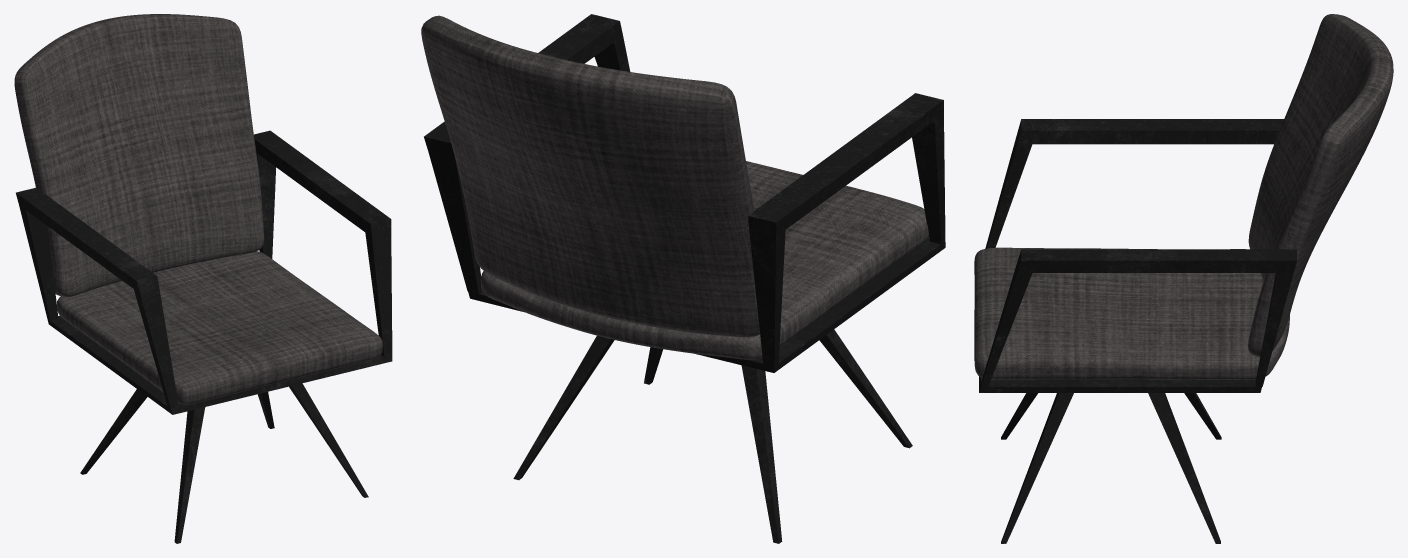
File: chair-low-poly-texture.fbx
3 views of the same model, side by side, from view 1: azimuth 30°, elevation 25°; view 2: azimuth 150°, elevation 25°; view 3: azimuth 270°, elevation 25° (orthographic). The views are drawn at different scales.
Visible parts, largest first — view 1: polySurface1, polySurface3, polySurface5; view 2: polySurface1, polySurface5, polySurface3; view 3: polySurface3, polySurface5, polySurface1.
Part boxes in pixels (left/top/right/bottom): polySurface1: left=14, top=14, right=264, bottom=296; polySurface3: left=57, top=251, right=382, bottom=404; polySurface5: left=16, top=130, right=392, bottom=543; polySurface1: left=421, top=15, right=759, bottom=337; polySurface5: left=424, top=14, right=945, bottom=543; polySurface3: left=480, top=161, right=928, bottom=359; polySurface3: left=974, top=247, right=1289, bottom=379; polySurface5: left=979, top=119, right=1296, bottom=543; polySurface1: left=1248, top=14, right=1393, bottom=357.
Size of the model in its own units: 0.6364 by 0.9027 by 0.7962.
Materials: 1 (1 with a texture image).
